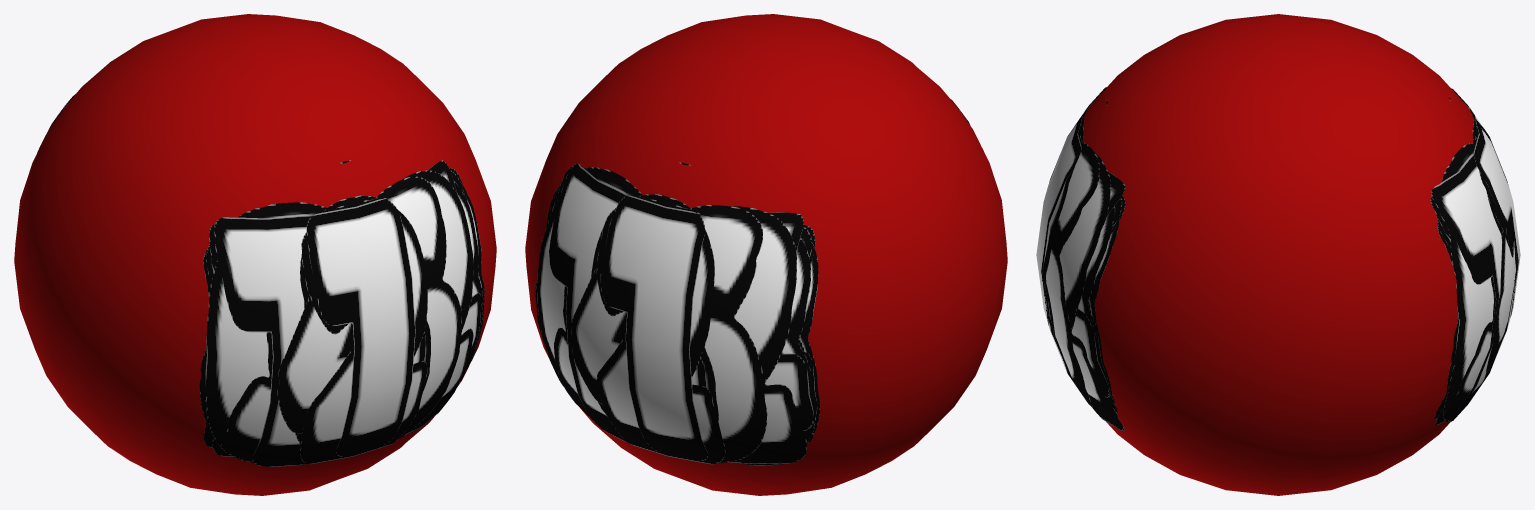
The model's file is BallsMeshes.fbx.
The picture shows the model from 3 angles, left to right: view 1: azimuth 30°, elevation 25°; view 2: azimuth 150°, elevation 25°; view 3: azimuth 270°, elevation 25°; orthographic projection.
Parts seen in each view (by area): view 1: ball_1, ball_16, ball_32, ball_2, ball_64, ball_4, ball_128, ball_8, ball_2048; view 2: ball_1, ball_16, ball_32, ball_2, ball_64, ball_4, ball_128, ball_2048, ball_8; view 3: ball_1, ball_16, ball_32, ball_64, ball_2, ball_4, ball_128, ball_2048.
Part boxes in pixels (x1=…): ball_1: x1=14, y1=14, x2=496, y2=495; ball_16: x1=214, y1=176, x2=461, y2=466; ball_32: x1=221, y1=170, x2=473, y2=461; ball_2: x1=300, y1=200, x2=427, y2=464; ball_64: x1=58, y1=94, x2=481, y2=462; ball_4: x1=277, y1=198, x2=425, y2=433; ball_128: x1=209, y1=182, x2=482, y2=380; ball_8: x1=295, y1=195, x2=430, y2=444; ball_2048: x1=37, y1=132, x2=484, y2=447; ball_1: x1=525, y1=14, x2=1007, y2=495; ball_16: x1=549, y1=99, x2=966, y2=462; ball_32: x1=554, y1=167, x2=806, y2=464; ball_2: x1=596, y1=199, x2=725, y2=464; ball_64: x1=536, y1=169, x2=813, y2=465; ball_4: x1=571, y1=207, x2=706, y2=404; ball_128: x1=554, y1=113, x2=969, y2=441; ball_2048: x1=545, y1=185, x2=819, y2=434; ball_8: x1=591, y1=194, x2=718, y2=420; ball_1: x1=1036, y1=14, x2=1520, y2=495; ball_16: x1=1046, y1=94, x2=1501, y2=422; ball_32: x1=1059, y1=87, x2=1495, y2=430; ball_64: x1=1071, y1=153, x2=1493, y2=430; ball_2: x1=1042, y1=123, x2=1517, y2=404; ball_4: x1=1044, y1=118, x2=1517, y2=371; ball_128: x1=1078, y1=196, x2=1449, y2=411; ball_2048: x1=1089, y1=218, x2=1452, y2=419.
Bounding box in the file's own units: 4.18 × 4.18 × 4.19.
